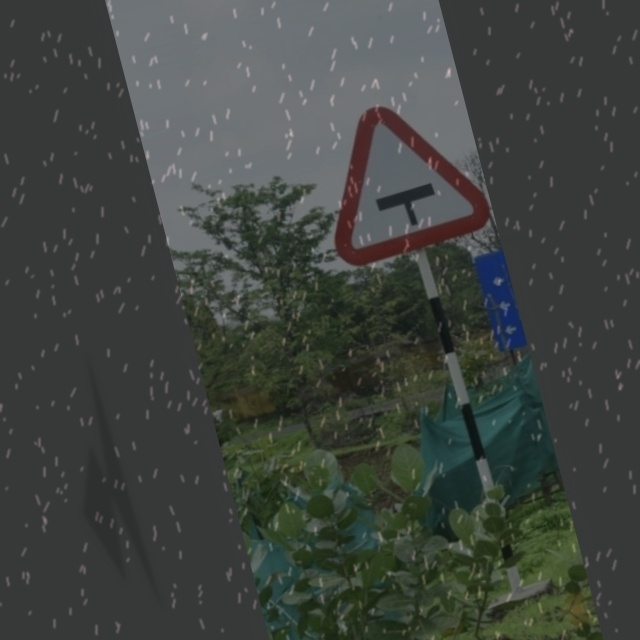T_Intersection: (312, 86, 486, 262)
